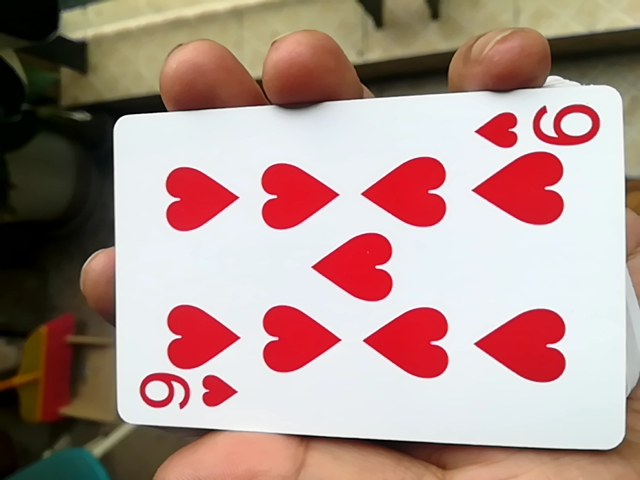hx 9: (100, 102, 625, 455)
